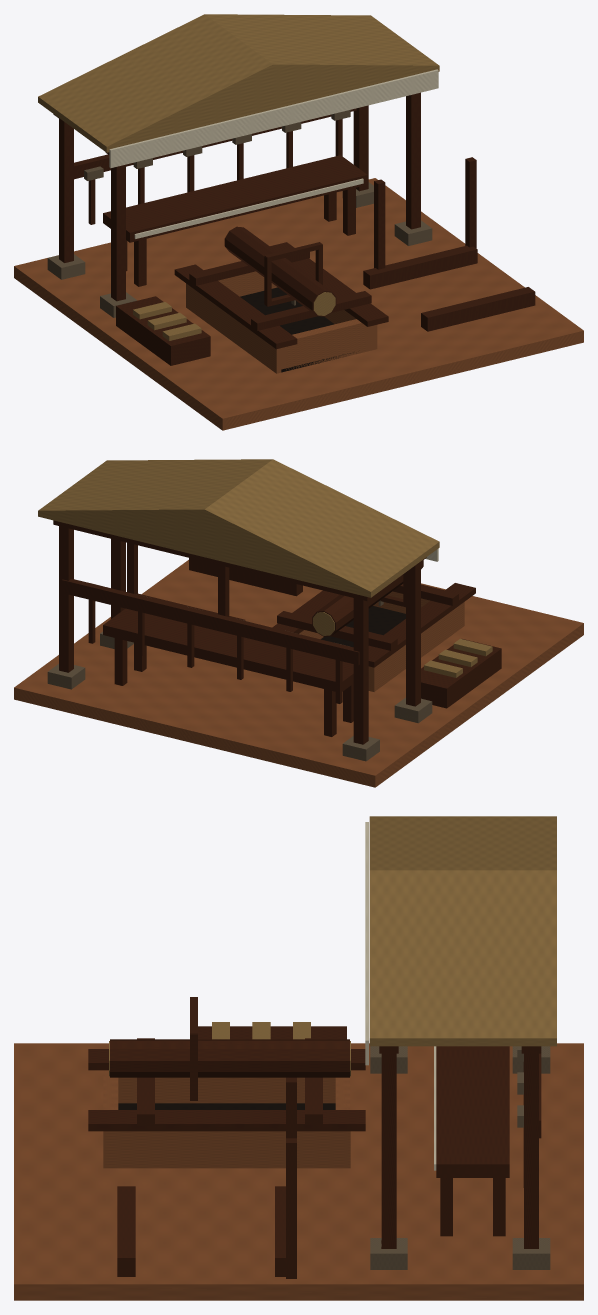
File: Berber_Lumber_Age1_ResourceEmpty.fbx
3 renders of one model, top to bottom at view 1: azimuth 30°, elevation 25°; view 2: azimuth 150°, elevation 25°; view 3: azimuth 270°, elevation 25°, orthographic. The views are drawn at different scales.
Parts seen in each view (by area): view 1: yard_foundation, covered_tool_roof, tool_bench_top, owner_front_roof_valance, sawpit_work_log, offcut_sorting_bin, pit_end, pit_side, stack_dunnage, stack_dunnage.001, pit_rim_plank, shelter_post.001 (+17 smaller); view 2: yard_foundation, covered_tool_roof, tool_bench_top, tool_rack_backrail, offcut_sorting_bin, shelter_post.001, shelter_post, pit_side, shelter_post.003, pit_rim_plank, shelter_eave_beam.001, stack_dunnage (+16 smaller); view 3: yard_foundation, covered_tool_roof, tool_bench_top, sawpit_work_log, pit_side.001, pit_rim_plank.001, pit_side, shelter_post.002, shelter_post.003, stack_dunnage, stack_retaining_post.001, offcut_sorting_bin (+12 smaller).
Part boxes in pixels (x1,y1,x2,y2): yard_foundation: (14, 178, 583, 430); covered_tool_roof: (38, 14, 439, 152); tool_bench_top: (103, 155, 367, 242); owner_front_roof_valance: (109, 69, 438, 168); sawpit_work_log: (224, 226, 336, 316); offcut_sorting_bin: (116, 296, 210, 365); pit_end: (286, 319, 367, 369); pit_side: (186, 283, 285, 373); stack_dunnage: (421, 287, 535, 331); stack_dunnage.001: (363, 245, 477, 289); pit_rim_plank: (174, 264, 297, 349); shelter_post.001: (59, 119, 73, 262); yard_foundation: (14, 560, 583, 787); covered_tool_roof: (38, 459, 439, 597); tool_bench_top: (103, 608, 353, 691); tool_rack_backrail: (62, 578, 359, 665); offcut_sorting_bin: (421, 639, 501, 708); shelter_post.001: (353, 598, 368, 744); shelter_post: (406, 562, 420, 706); pit_side: (368, 602, 464, 691); shelter_post.003: (59, 526, 73, 672); pit_rim_plank: (368, 583, 475, 667); shelter_eave_beam.001: (53, 520, 373, 600); stack_dunnage: (189, 558, 302, 596); yard_foundation: (14, 1043, 583, 1300); covered_tool_roof: (369, 816, 556, 1046); tool_bench_top: (436, 1046, 509, 1177); sawpit_work_log: (110, 1039, 349, 1077); pit_side.001: (103, 1131, 350, 1168); pit_rim_plank.001: (88, 1110, 365, 1131); pit_side: (118, 1077, 335, 1103); shelter_post.002: (381, 1053, 396, 1248); shelter_post.003: (524, 1053, 538, 1248); stack_dunnage: (117, 1186, 135, 1276); stack_retaining_post.001: (286, 1138, 296, 1278); offcut_sorting_bin: (198, 1026, 346, 1039).
Bounding box in the file's own units: 380 × 228 × 380.
6 materials, 6 textured.
